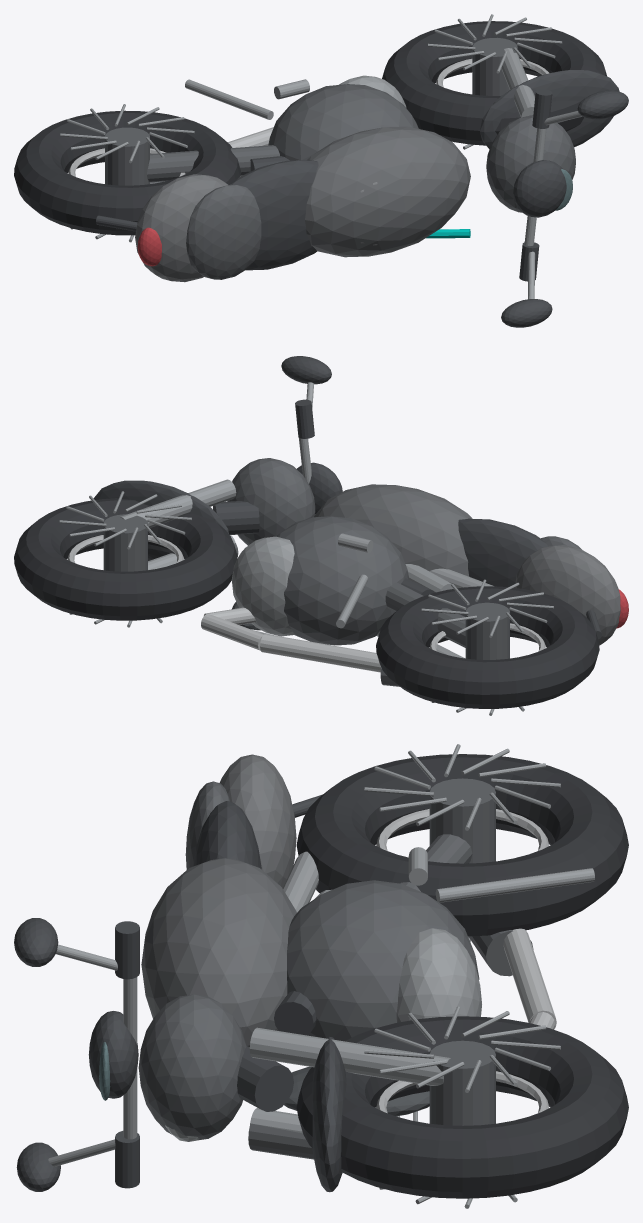
The model's file is motocicleta_3D.glb.
3 views of the same model, one above another, from view 1: azimuth 30°, elevation 25°; view 2: azimuth 150°, elevation 25°; view 3: azimuth 270°, elevation 25° (orthographic). The views are drawn at different scales.
Parts seen in each view (by area): view 1: fuel_tank, rear_tire, front_tire, engine_core, seat, rear_seat, tail_fairing, headlight_shell, front_fender, instrument_cluster, rear_hub, swingarm (+13 smaller); view 2: rear_tire, front_tire, engine_core, fuel_tank, tail_fairing, headlight_shell, engine_lower, seat, rear_hub, exhaust_tail, front_hub, front_fender (+12 smaller); view 3: front_tire, rear_tire, fuel_tank, engine_core, headlight_shell, engine_lower, tail_fairing, fork_right, front_hub, front_fender, rear_hub, seat (+22 smaller).
Part boxes in pixels (x1,y1,x2,y2): fuel_tank: (305,126,470,257); rear_tire: (14,110,240,235); front_tire: (382,21,607,145); engine_core: (268,84,418,160); seat: (229,160,318,270); rear_seat: (186,184,261,279); tail_fairing: (135,174,227,282); headlight_shell: (486,115,575,212); front_fender: (480,70,619,149); instrument_cluster: (513,160,566,217); rear_hub: (105,127,149,185); swingarm: (146,145,279,182); rear_tire: (376,586,599,708); front_tire: (14,498,237,620); engine_core: (276,516,409,645); fuel_tank: (314,484,472,576); tail_fairing: (514,545,620,645); headlight_shell: (227,458,315,545); engine_lower: (231,536,294,636); seat: (458,518,547,587); rear_hub: (465,602,509,659); exhaust_tail: (260,634,380,672); front_hub: (103,514,147,571); front_fender: (93,480,228,560); front_tire: (296,1016,628,1198); rear_tire: (296,754,628,936); fuel_tank: (141,858,296,1046); engine_core: (287,880,479,1041); headlight_shell: (138,994,246,1140); engine_lower: (396,928,481,1022); tail_fairing: (219,754,296,887); fork_right: (249,1027,450,1085); front_hub: (429,1040,495,1125); front_fender: (312,1037,346,1192); rear_hub: (429,778,495,863); seat: (193,801,261,869).
Bounding box in the file's own units: 3.44 × 1.25 × 2.22.
